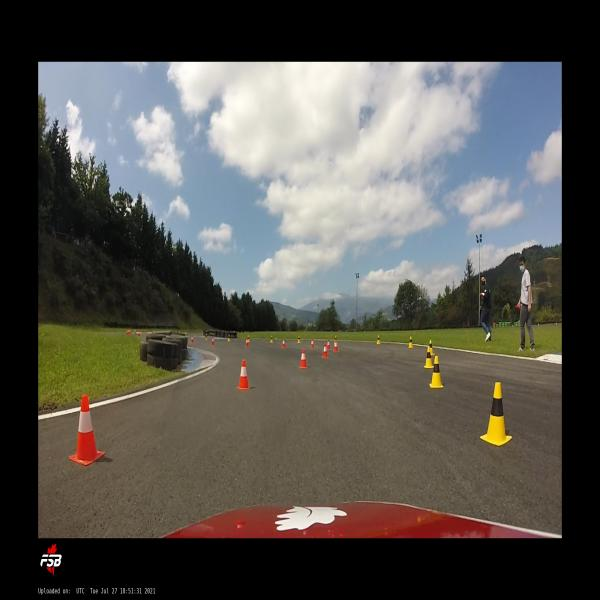orange_cone: (69, 394, 105, 466), (236, 360, 250, 390), (299, 348, 307, 369), (322, 343, 328, 359), (333, 339, 338, 353), (326, 340, 331, 350), (245, 338, 249, 347), (311, 339, 314, 348), (282, 339, 285, 348), (191, 336, 194, 343), (212, 337, 214, 345), (134, 331, 136, 334), (139, 332, 140, 337), (127, 331, 128, 334), (130, 331, 130, 333)
yellow_cone: (480, 382, 512, 446), (429, 356, 443, 387), (424, 346, 433, 368), (429, 340, 434, 355), (408, 336, 413, 348), (297, 335, 301, 343), (377, 335, 380, 344), (270, 335, 273, 343), (334, 335, 337, 340), (248, 335, 250, 342), (228, 335, 230, 341), (206, 335, 207, 340)
